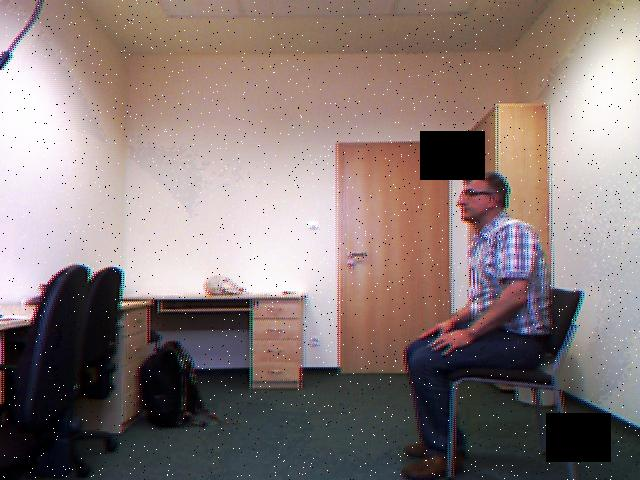sitting: (379, 168, 569, 480)
